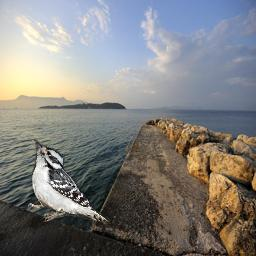Woodpecker: (25, 139, 109, 222)
